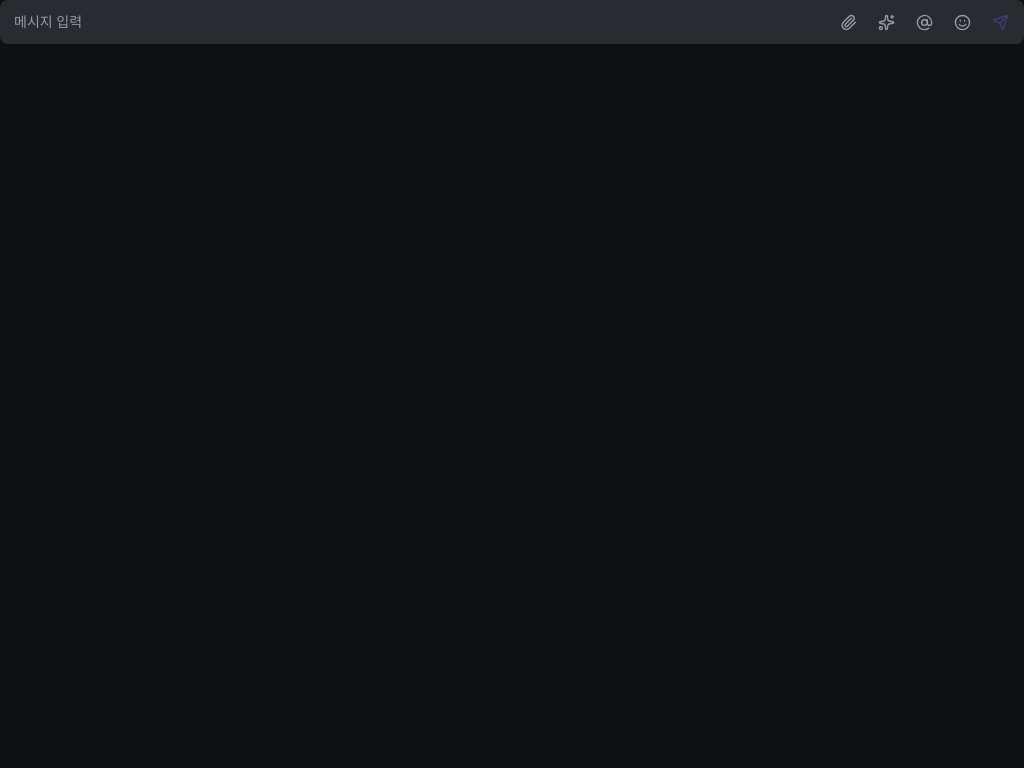
Scenario: LobbyComposer › retains the uncertain vote request across retry failures
This screenshot has width=1024, height=768.
Type "/vote" into the text box named "채팅 입력" at (421, 22), box 14,1 -> 828,43
Click the button named "채팅 메시지 보내기" at (1000, 22), box 982,4 -> 1018,40
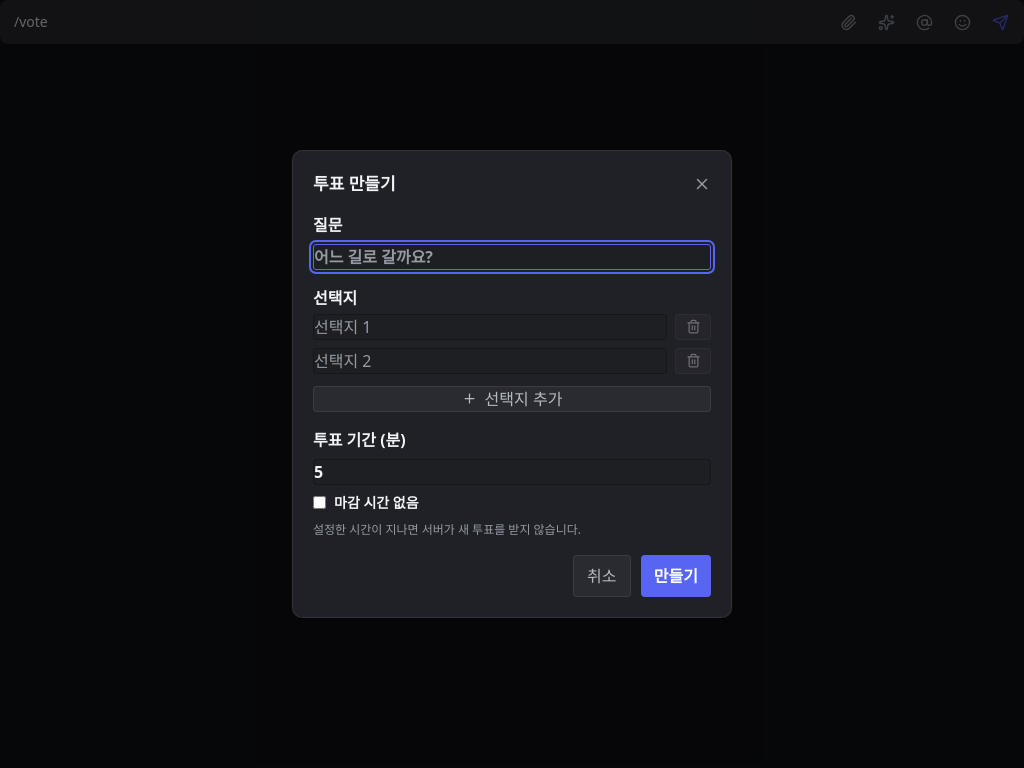
Type "One vote" into the field labelled "질문" at (512, 257), box 313,244 -> 711,270
Type "A" into the field labelled "선택지 1" at (490, 327), box 313,314 -> 667,340
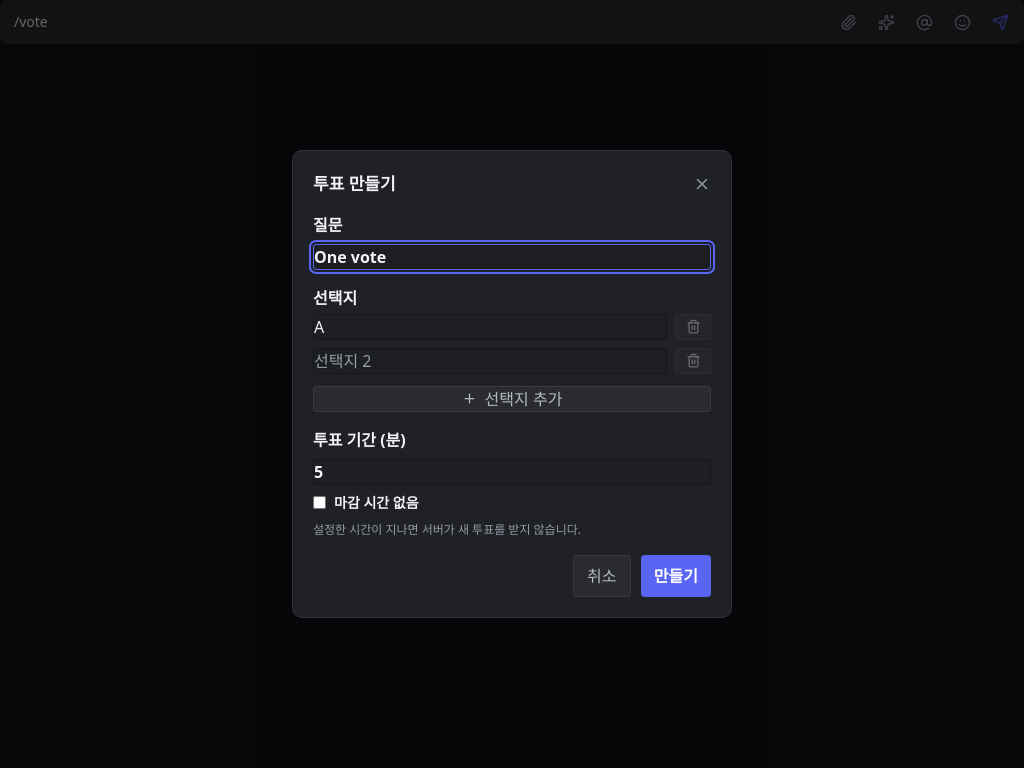
Type "B" into the field labelled "선택지 2" at (490, 361), box 313,348 -> 667,374
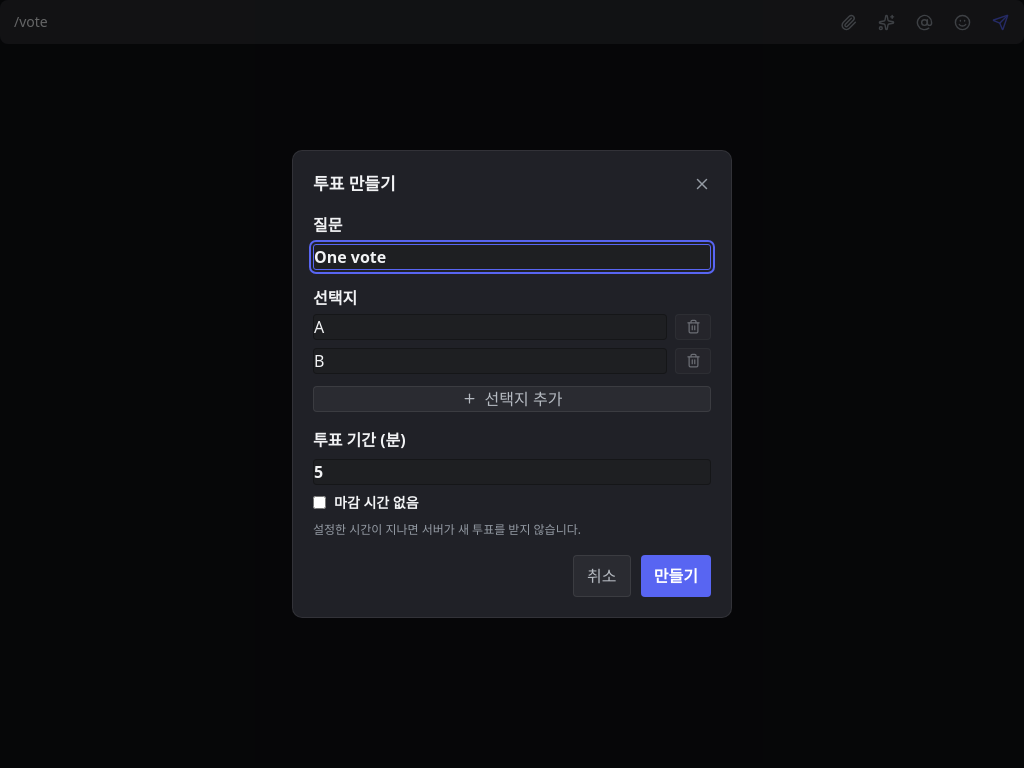
Click the button "만들기" at (676, 576), box 641,555 -> 711,597
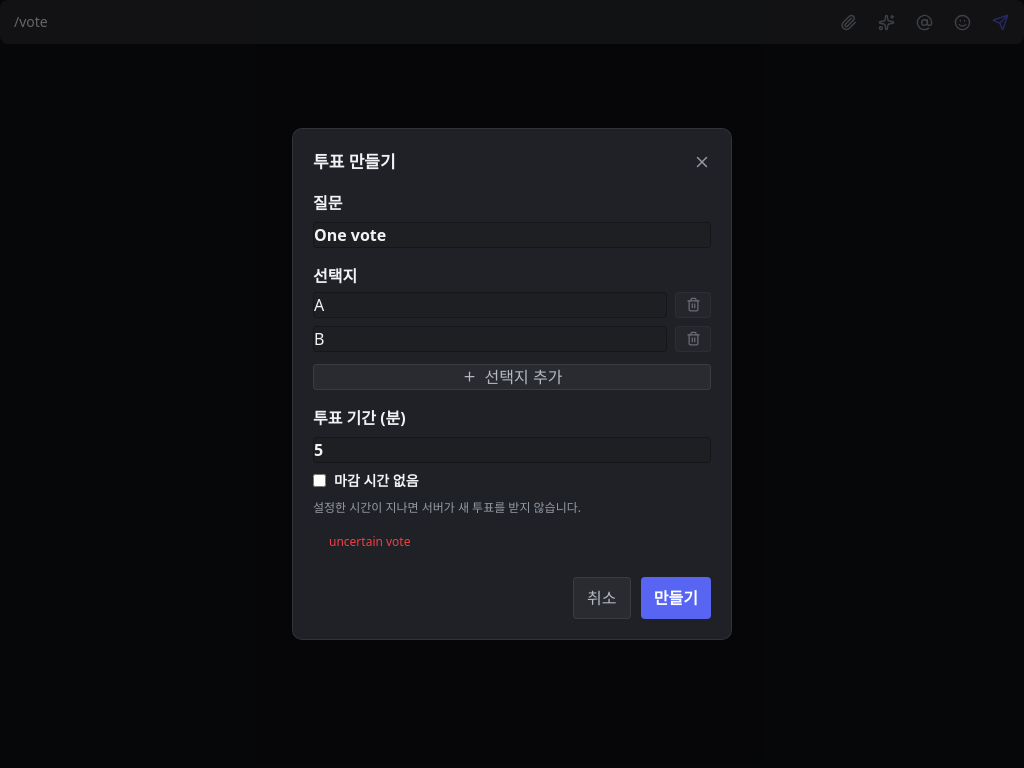
expect the text "uncertain vote" is shown: met, box 329,533 -> 410,550
Click the button "만들기" at (676, 598), box 641,577 -> 711,619
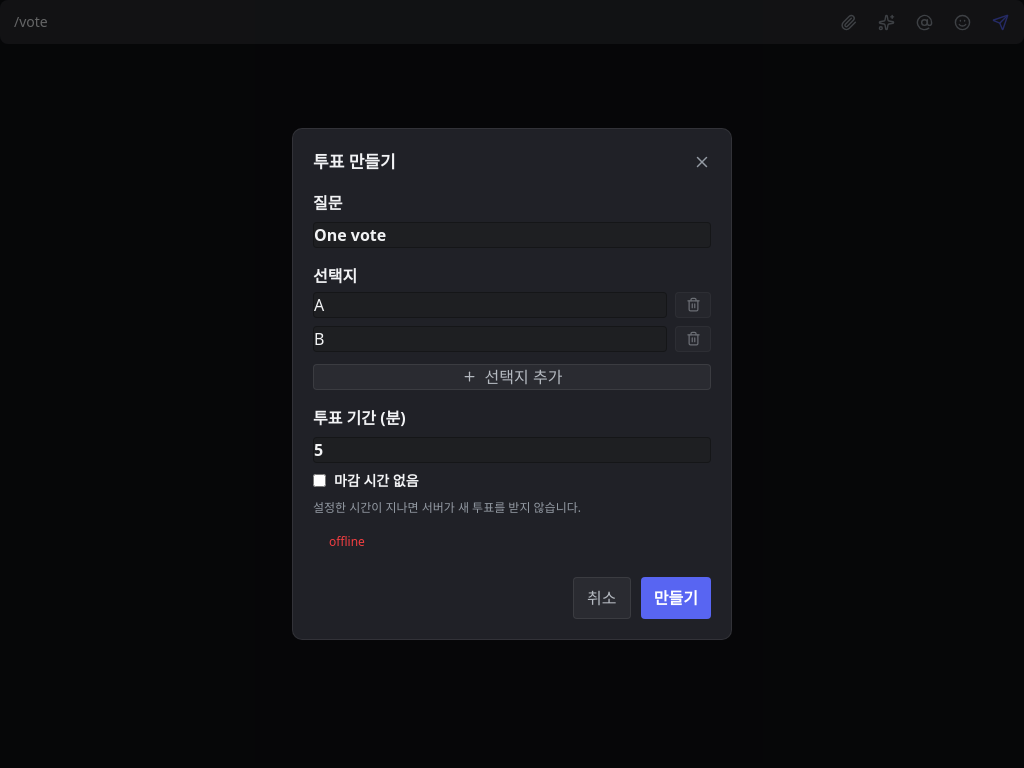
expect the text "offline" is shown: met, box 329,533 -> 365,550
Click the button "만들기" at (676, 598), box 641,577 -> 711,619
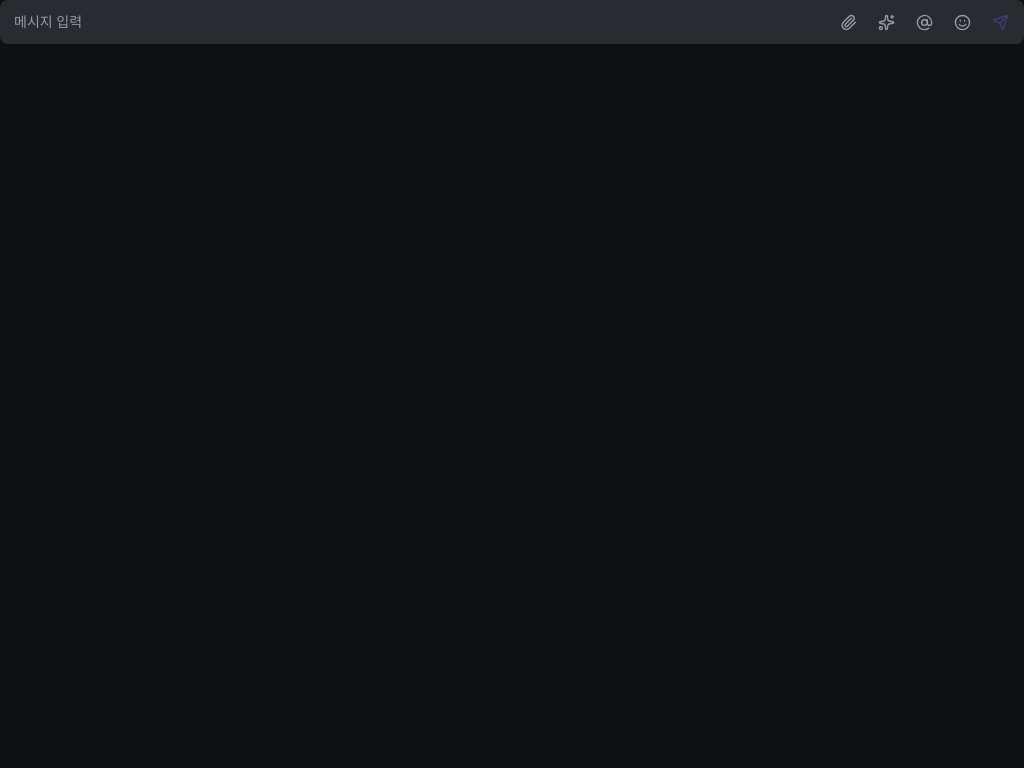
expect the heading "투표 만들기" is gone: met
